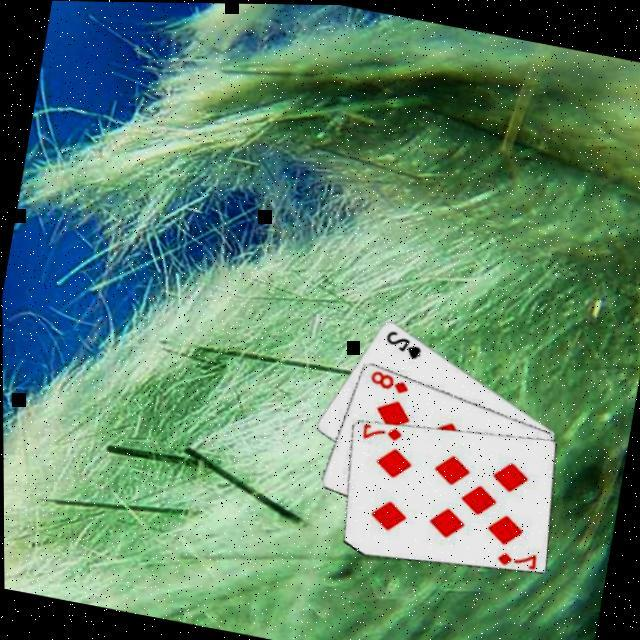2S: (379, 322, 425, 359)
7D: (490, 540, 538, 569), (356, 416, 404, 444)
8D: (364, 362, 411, 394)
